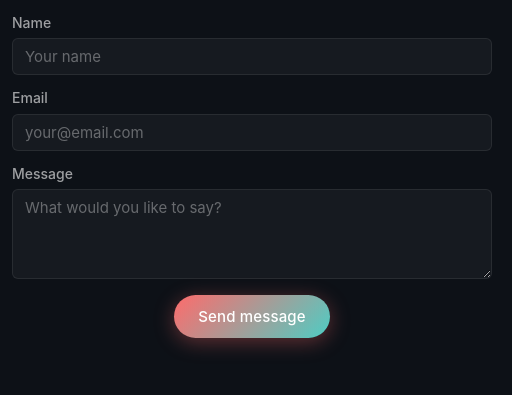
Scenario: ContactForm › clears error when field is corrected
Click the field labelled "Name" at point(252, 57), box [12,38,492,75]
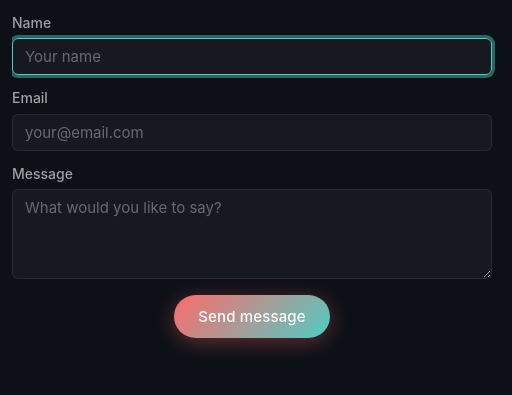
Press Tab
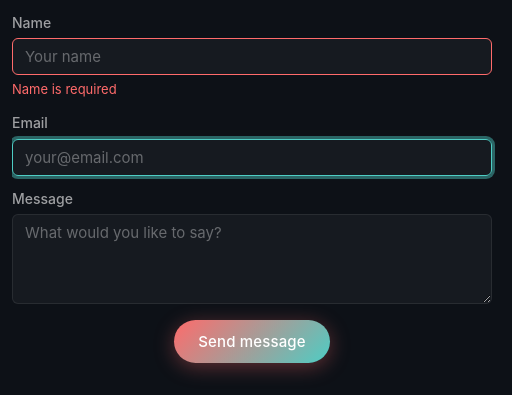
Now the message "Name is required" is shown, box [12,81,117,97]
Type "Alastair" into the field labelled "Name" at point(252, 57), box [12,38,492,75]
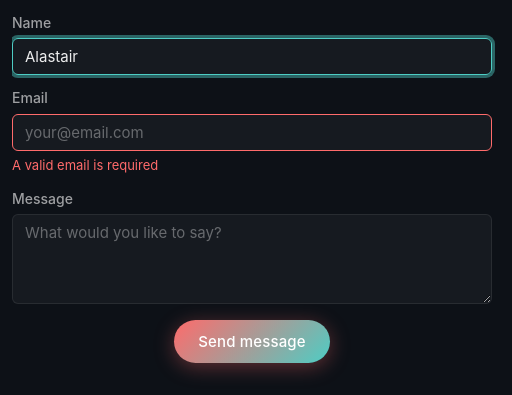
Now the text "Name is required" is gone
